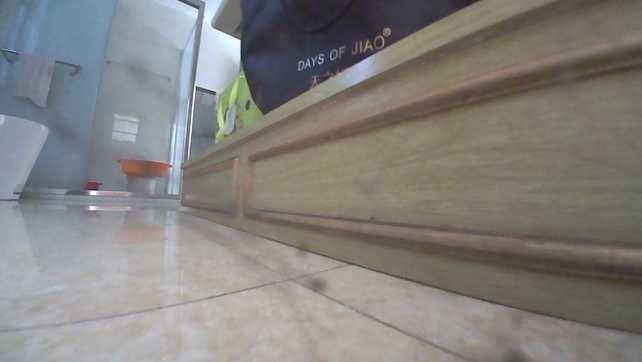door_sill: (83, 189, 180, 201)
toilet: (0, 112, 50, 201)
